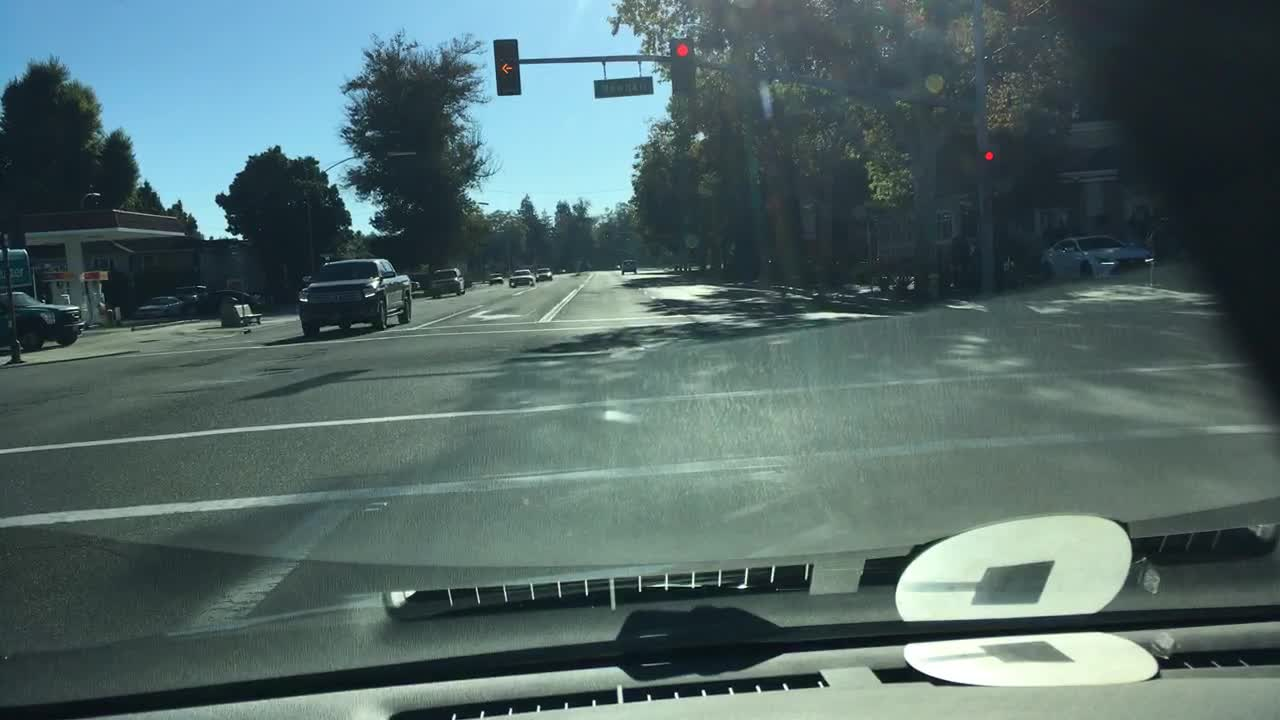car: (295, 255, 414, 334), (1039, 231, 1151, 287), (0, 292, 85, 350), (189, 288, 259, 320), (133, 292, 187, 319), (429, 267, 465, 297), (508, 267, 535, 288), (618, 258, 639, 275), (533, 265, 550, 281), (486, 272, 502, 284), (408, 278, 420, 292)
person: (950, 230, 969, 293)
traffic light: (668, 36, 693, 95), (494, 38, 519, 94), (984, 146, 997, 171)
traffic sign: (592, 76, 654, 100)
